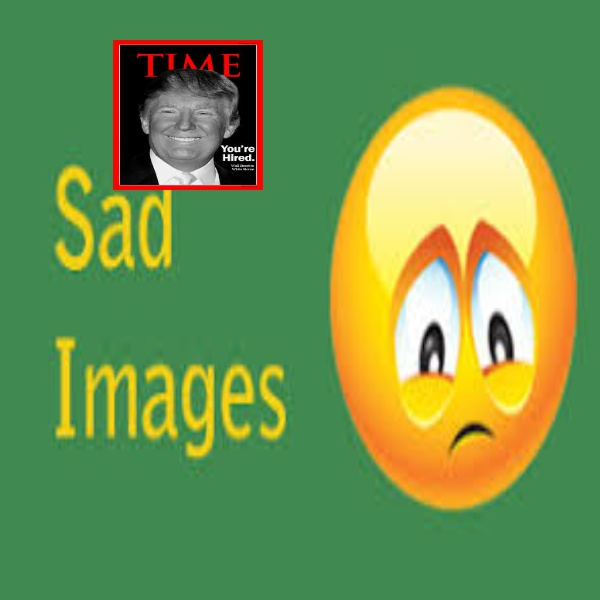time_cover: (116, 29, 262, 204)
